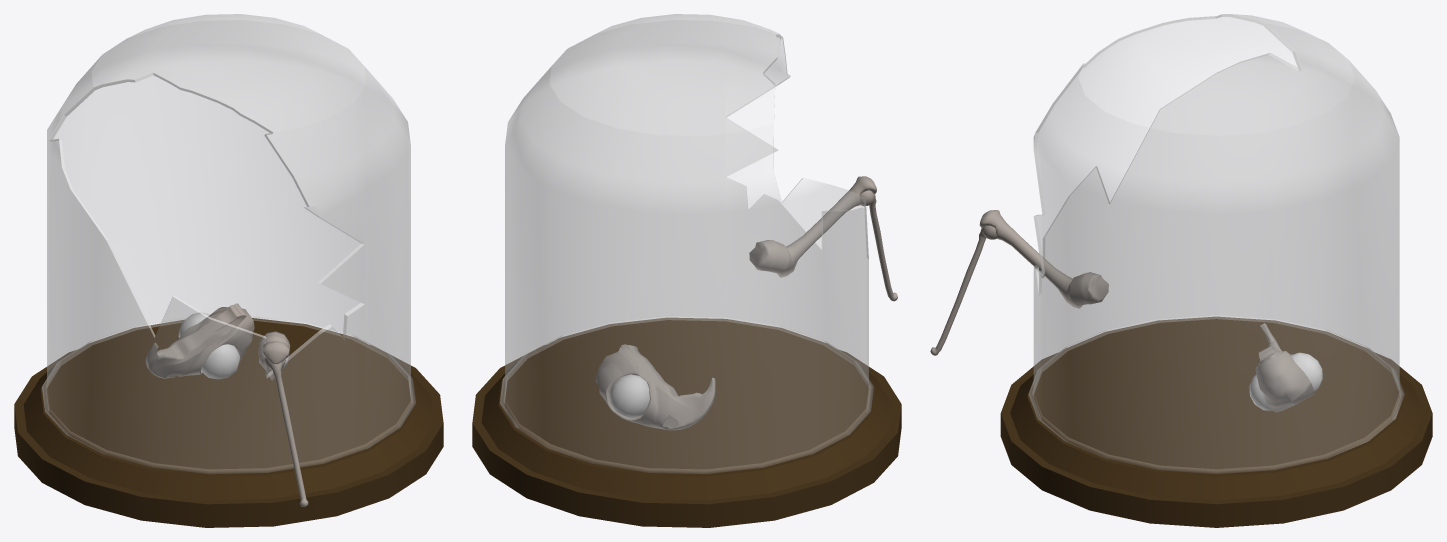
Rendered from parrotSkeletal_UV.fbx.
3 renders of one model, left to right at view 1: azimuth 30°, elevation 25°; view 2: azimuth 150°, elevation 25°; view 3: azimuth 270°, elevation 25°, orthographic.
Visible parts, largest first — view 1: Glass_tank, Platform, Parrot_Jaw, L_Forearm, L_eye, L_Shoulder; view 2: Glass_tank, Platform, Parrot_Jaw, L_Shoulder, R_eye, L_Forearm; view 3: Glass_tank, Platform, L_Shoulder, Parrot_Jaw, L_Forearm, R_eye.
Part boxes in pixels (bbox=[...]): Glass_tank: bbox=[42, 14, 415, 473]; Platform: bbox=[14, 318, 443, 527]; Parrot_Jaw: bbox=[145, 303, 254, 378]; L_Forearm: bbox=[265, 358, 308, 506]; L_eye: bbox=[201, 344, 239, 379]; L_Shoulder: bbox=[258, 331, 290, 380]; Glass_tank: bbox=[500, 14, 873, 473]; Platform: bbox=[472, 317, 901, 527]; Parrot_Jaw: bbox=[595, 344, 715, 430]; L_Shoulder: bbox=[749, 176, 876, 277]; R_eye: bbox=[609, 374, 649, 417]; L_Forearm: bbox=[860, 190, 897, 301]; Glass_tank: bbox=[1028, 14, 1404, 473]; Platform: bbox=[1000, 316, 1432, 527]; L_Shoulder: bbox=[979, 210, 1108, 308]; Parrot_Jaw: bbox=[1255, 323, 1314, 412]; L_Forearm: bbox=[930, 225, 996, 355]; R_eye: bbox=[1291, 352, 1322, 391].
Size of the model in its own units: 52.72 by 52.26 by 61.31.
